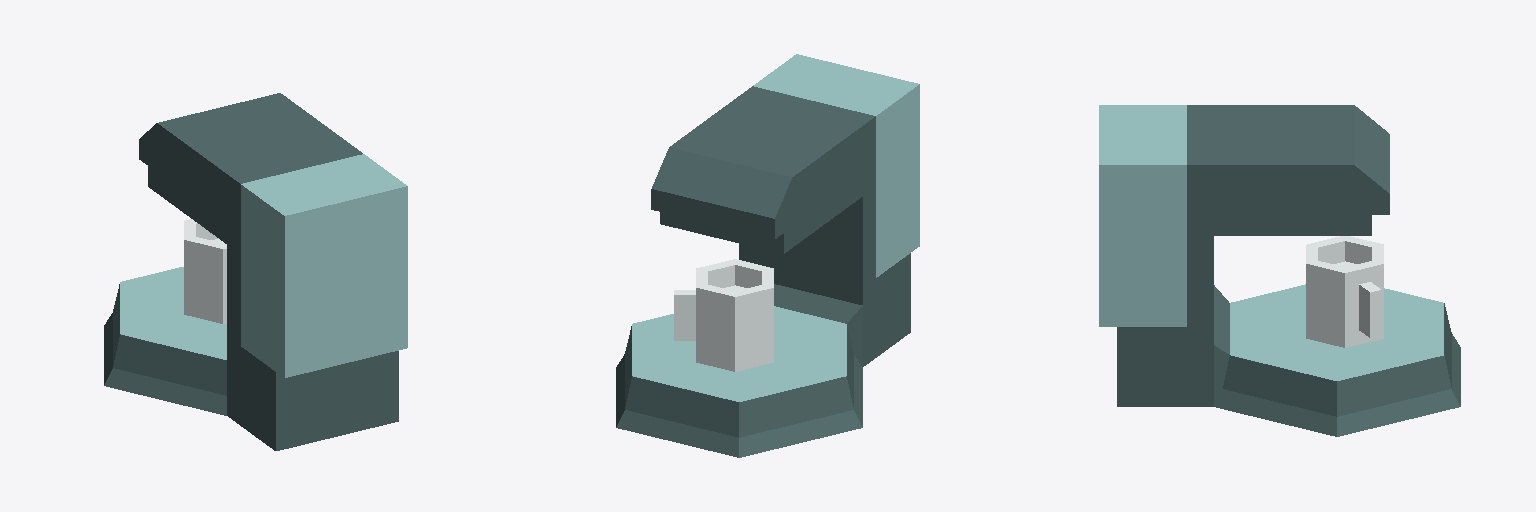
File: kitchenCoffeeMachine.obj
3 renders of one model, left to right at view 1: azimuth 30°, elevation 25°; view 2: azimuth 150°, elevation 25°; view 3: azimuth 270°, elevation 25°, orthographic.
Visible parts, largest first — view 1: kitchenCoffeeMachine, mug; view 2: kitchenCoffeeMachine, mug; view 3: kitchenCoffeeMachine, mug.
Part boxes in pixels (left/top/right/bottom): kitchenCoffeeMachine: left=104, top=93, right=407, bottom=450; mug: left=184, top=219, right=226, bottom=323; kitchenCoffeeMachine: left=616, top=54, right=919, bottom=457; mug: left=674, top=259, right=773, bottom=371; kitchenCoffeeMachine: left=1099, top=105, right=1460, bottom=436; mug: left=1306, top=236, right=1383, bottom=347.
Size of the model in its own units: 1.9 by 1.77 by 2.4.